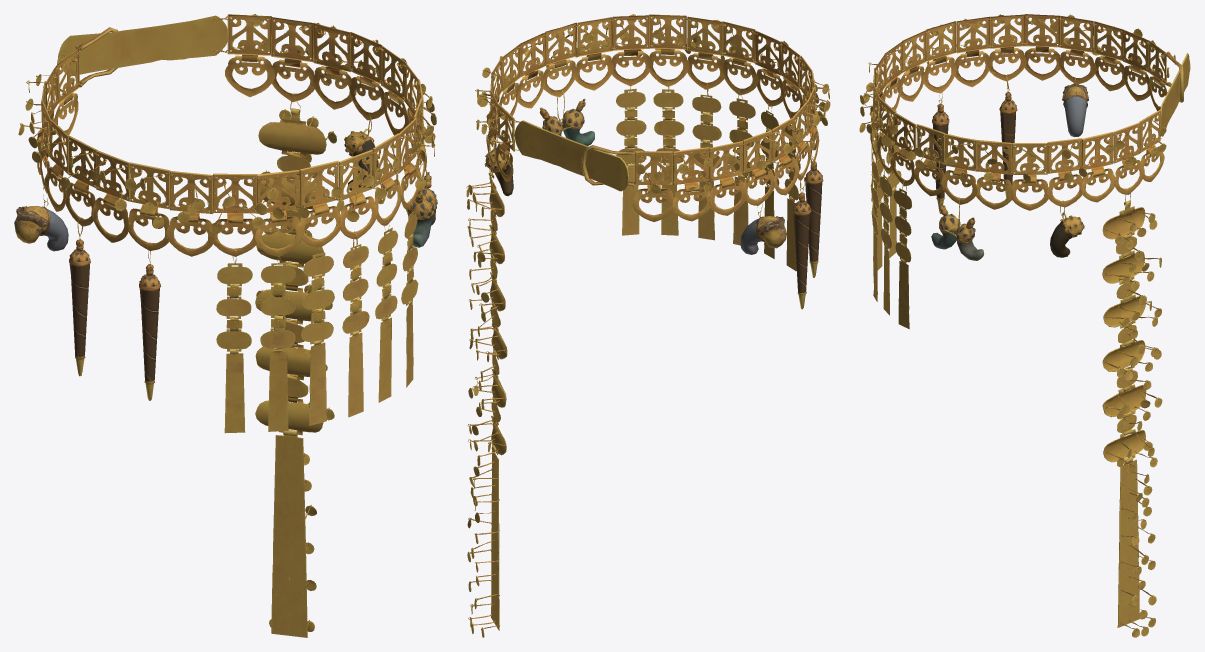
File: belt.glb
3 renders of one model, left to right at view 1: azimuth 30°, elevation 25°; view 2: azimuth 150°, elevation 25°; view 3: azimuth 270°, elevation 25°, orthographic. The views are drawn at different scales.
Visible parts, largest first — view 1: SM_ShillaBelt_02_ShillaBelt_02_0, SM_ShillaBelt_02_ShillaBelt_02_0.001; view 2: SM_ShillaBelt_02_ShillaBelt_02_0, SM_ShillaBelt_02_ShillaBelt_02_0.001; view 3: SM_ShillaBelt_02_ShillaBelt_02_0, SM_ShillaBelt_02_ShillaBelt_02_0.001.
Boxes of the visible parts, x1,y1,x2,y2 form: SM_ShillaBelt_02_ShillaBelt_02_0: (14, 14, 436, 637); SM_ShillaBelt_02_ShillaBelt_02_0.001: (15, 15, 437, 632); SM_ShillaBelt_02_ShillaBelt_02_0: (467, 14, 830, 637); SM_ShillaBelt_02_ShillaBelt_02_0.001: (466, 14, 823, 633); SM_ShillaBelt_02_ShillaBelt_02_0: (866, 14, 1183, 627); SM_ShillaBelt_02_ShillaBelt_02_0.001: (859, 14, 1190, 637).
Size of the model in its own units: 0.3078 by 0.5099 by 0.3019.
1 material, 1 textured.
